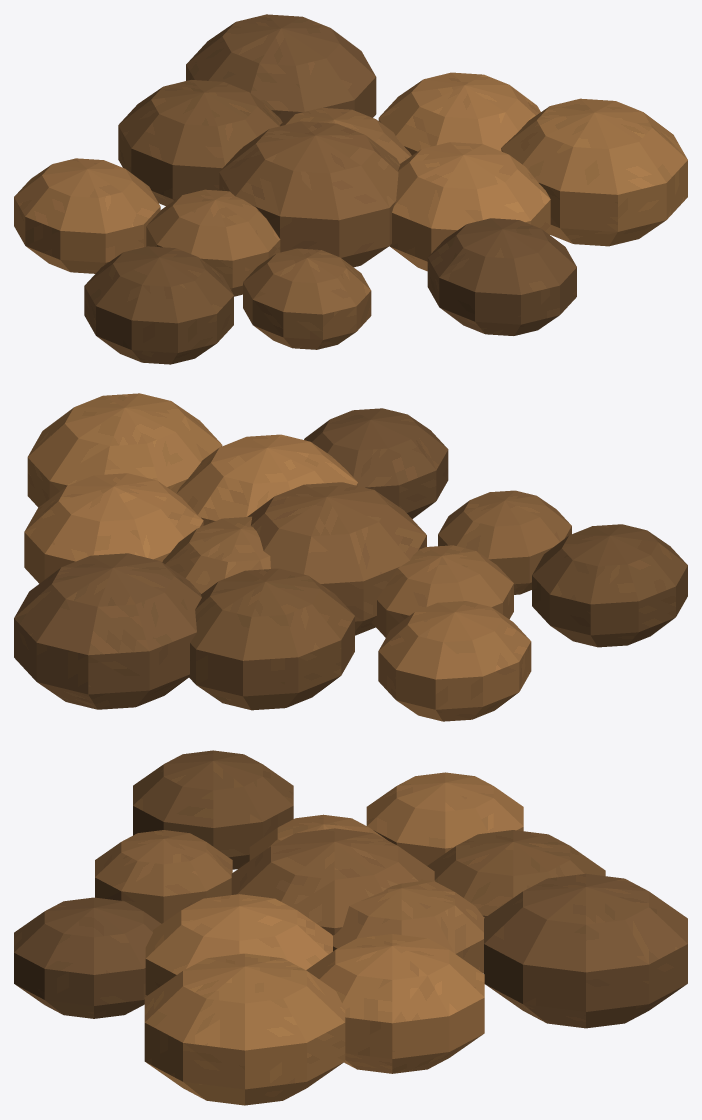
File: chestnut_shelled.glb
3 renders of one model, top to bottom at view 1: azimuth 30°, elevation 25°; view 2: azimuth 150°, elevation 25°; view 3: azimuth 270°, elevation 25°, orthographic. The views are drawn at different scales.
Visible parts, largest first — view 1: block_grain 11, block_grain 0, block_grain 10, block_grain 8, block_grain 9, block_grain 4, block_grain 3, block_grain 7, block_grain 5, block_grain 6, block_grain 2, block_grain 1; view 2: block_grain 9, block_grain 4, block_grain 10, block_grain 0, block_grain 7, block_grain 11, block_grain 6, block_grain 8, block_grain 3, block_grain 5, block_grain 2, block_grain 1; view 3: block_grain 9, block_grain 11, block_grain 6, block_grain 8, block_grain 10, block_grain 0, block_grain 3, block_grain 7, block_grain 5, block_grain 4, block_grain 1, block_grain 2.
Boxes of the visible parts, box(x1,y1,x2,y2) form: block_grain 11: box(501, 98, 687, 246); block_grain 0: box(219, 121, 399, 267); block_grain 10: box(84, 246, 233, 364); block_grain 8: box(427, 218, 576, 335); block_grain 9: box(186, 14, 376, 122); block_grain 4: box(118, 80, 282, 205); block_grain 3: box(389, 142, 550, 271); block_grain 7: box(14, 158, 160, 273); block_grain 5: box(243, 248, 371, 349); block_grain 6: box(378, 72, 540, 155); block_grain 2: box(146, 189, 280, 296); block_grain 1: box(280, 107, 411, 163); block_grain 9: box(14, 553, 201, 709); block_grain 4: box(188, 568, 354, 710); block_grain 10: box(532, 524, 687, 647); block_grain 0: box(247, 482, 426, 635); block_grain 7: box(378, 601, 531, 721); block_grain 11: box(27, 393, 222, 507); block_grain 6: box(24, 473, 203, 583); block_grain 8: box(304, 408, 448, 518); block_grain 3: box(176, 434, 357, 525); block_grain 5: box(438, 490, 571, 594); block_grain 2: box(371, 545, 513, 637); block_grain 1: box(162, 516, 270, 593); block_grain 9: box(484, 873, 687, 1028); block_grain 11: box(144, 953, 345, 1105); block_grain 6: box(306, 934, 484, 1073); block_grain 8: box(14, 897, 161, 1018); block_grain 10: box(133, 750, 293, 869); block_grain 0: box(231, 828, 434, 935); block_grain 3: box(145, 894, 332, 995); block_grain 7: box(366, 772, 523, 865); block_grain 5: box(95, 830, 232, 923); block_grain 4: box(427, 830, 605, 917); block_grain 1: box(333, 879, 484, 973); block_grain 2: box(249, 814, 387, 860).
Bounding box in the file's own units: 0.0716 × 0.0143 × 0.0672.
1 material, 1 textured.
